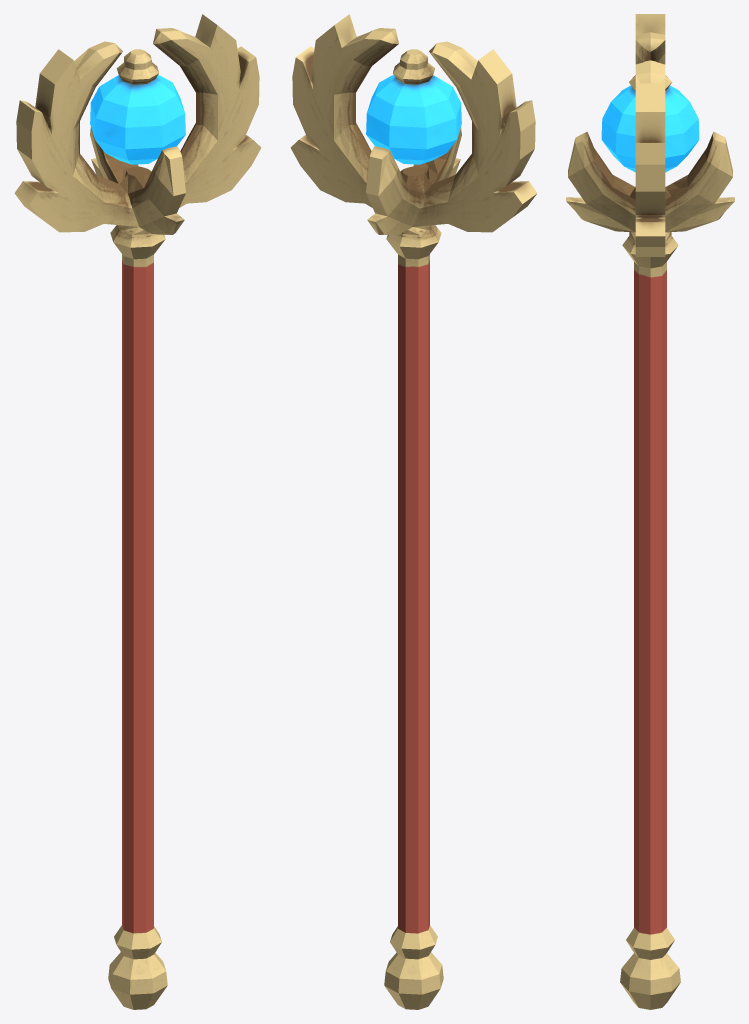
Rendered from Wing Wand.fbx.
3 renders of one model, left to right at view 1: azimuth 30°, elevation 25°; view 2: azimuth 150°, elevation 25°; view 3: azimuth 270°, elevation 25°, orthographic.
Visible parts, largest first — view 1: Wing_Wand; view 2: Wing_Wand; view 3: Wing_Wand.
Boxes of the visible parts, x1,y1,x2,y2 form: Wing_Wand: [14, 14, 261, 1009]; Wing_Wand: [290, 14, 537, 1009]; Wing_Wand: [566, 14, 734, 1009].
Size of the model in its own units: 112 by 447 by 71.71.
